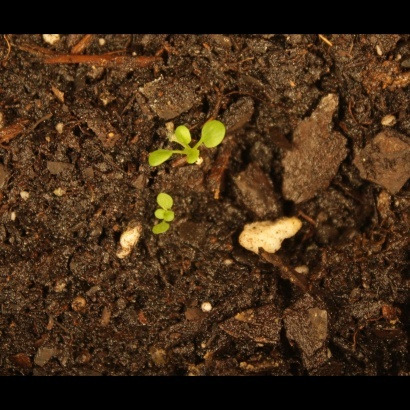leaf: (201, 120, 229, 150), (143, 145, 176, 169), (150, 186, 180, 212), (170, 125, 197, 148), (150, 222, 173, 245), (182, 147, 205, 170)
